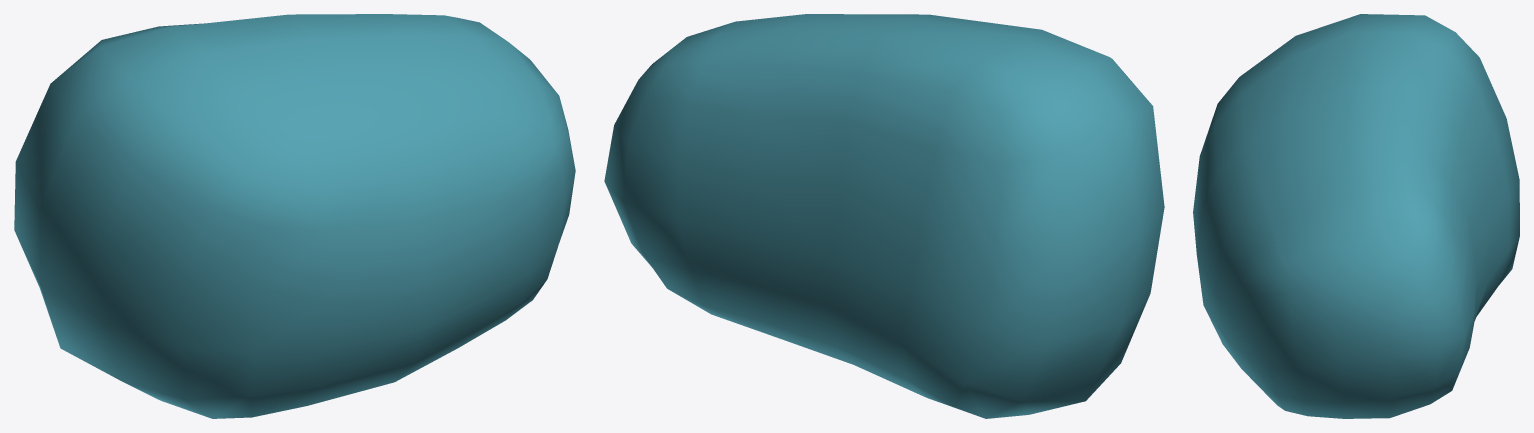
The model's file is VIS_Alpha_Surface_028.dae.
3 views of the same model, side by side, from view 1: azimuth 30°, elevation 25°; view 2: azimuth 150°, elevation 25°; view 3: azimuth 270°, elevation 25° (orthographic). The views are drawn at different scales.
Parts seen in each view (by area): view 1: VIS_Alpha_Surface_028; view 2: VIS_Alpha_Surface_028; view 3: VIS_Alpha_Surface_028.
Boxes of the visible parts, <box> form: VIS_Alpha_Surface_028: <box>14,14,575,418</box>; VIS_Alpha_Surface_028: <box>604,14,1164,418</box>; VIS_Alpha_Surface_028: <box>1193,14,1519,418</box>.
Bounding box in the file's own units: 0.0349 × 0.0225 × 0.0225.
